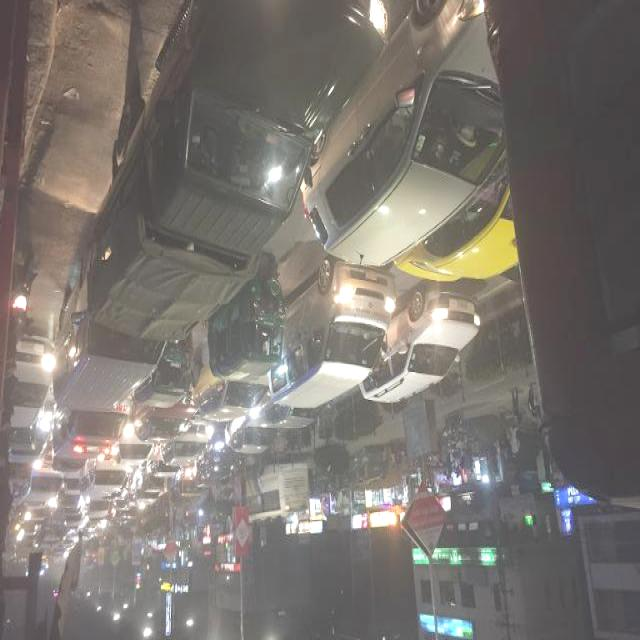white: (308, 0, 513, 266), (267, 262, 381, 406), (53, 284, 163, 409), (362, 292, 482, 398), (0, 327, 49, 432), (158, 416, 212, 468)
